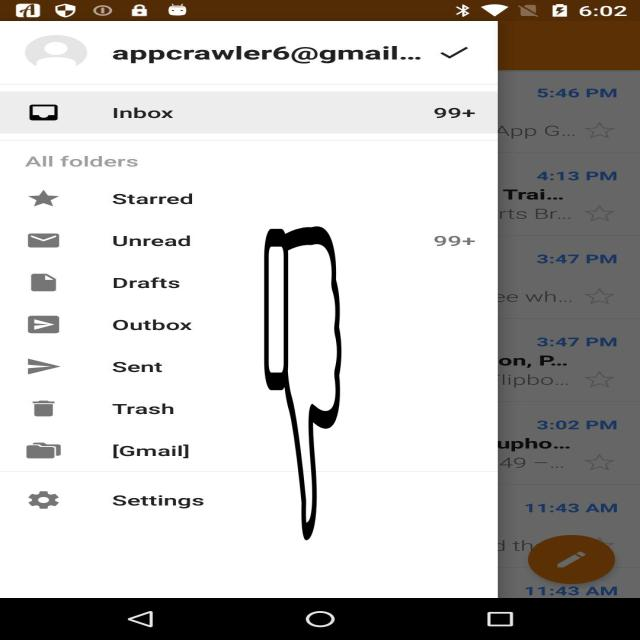obstruction: (263, 227, 343, 540)
